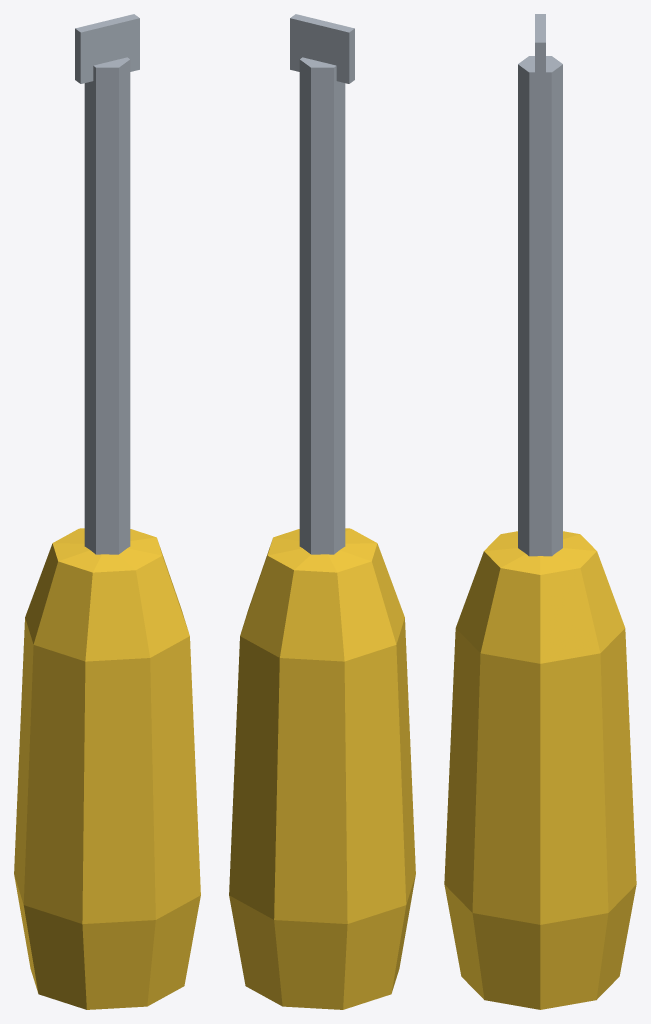
File: Screwdriver.fbx
3 views of the same model, side by side, from view 1: azimuth 30°, elevation 25°; view 2: azimuth 150°, elevation 25°; view 3: azimuth 270°, elevation 25° (orthographic).
Parts seen in each view (by area): view 1: Screwdriver; view 2: Screwdriver; view 3: Screwdriver.
Boxes of the visible parts, box(x1,y1,x2,y2) form: Screwdriver: box(14, 14, 200, 1009); Screwdriver: box(229, 14, 415, 1009); Screwdriver: box(444, 14, 636, 1009).
Bounding box in the file's own units: 0.34 × 1.87 × 0.34.
1 material, 1 textured.
